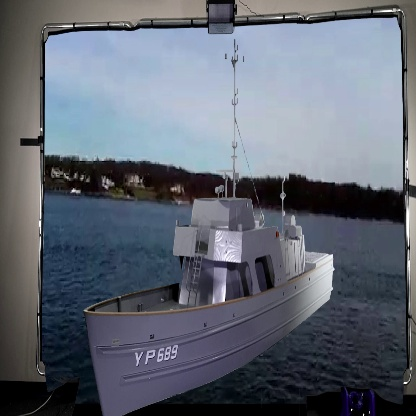YP689: (82, 40, 336, 416)
